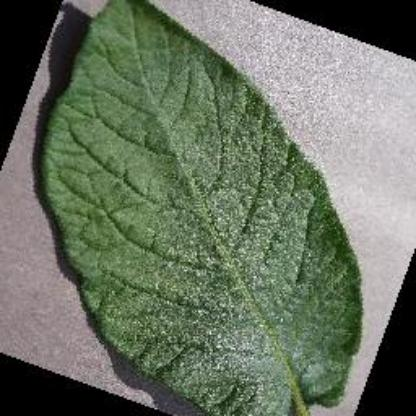Healthy-plant: (23, 1, 396, 413)
